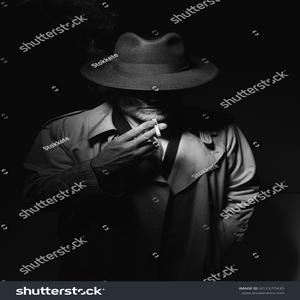cigarette: (154, 120, 161, 137)
